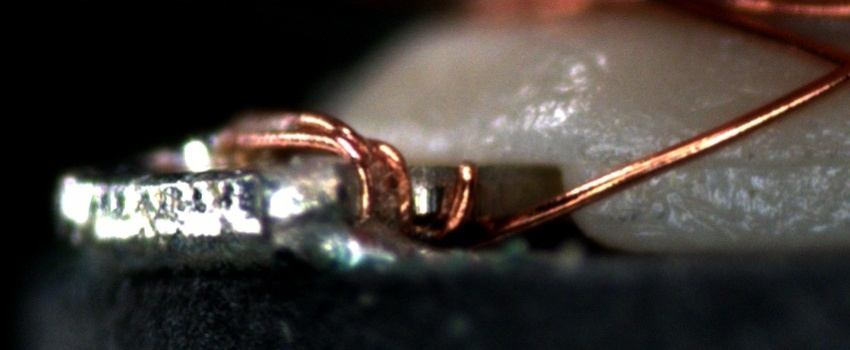CL: (812, 41, 848, 88)
DL: (611, 138, 849, 180)
TE: (213, 105, 478, 233)
